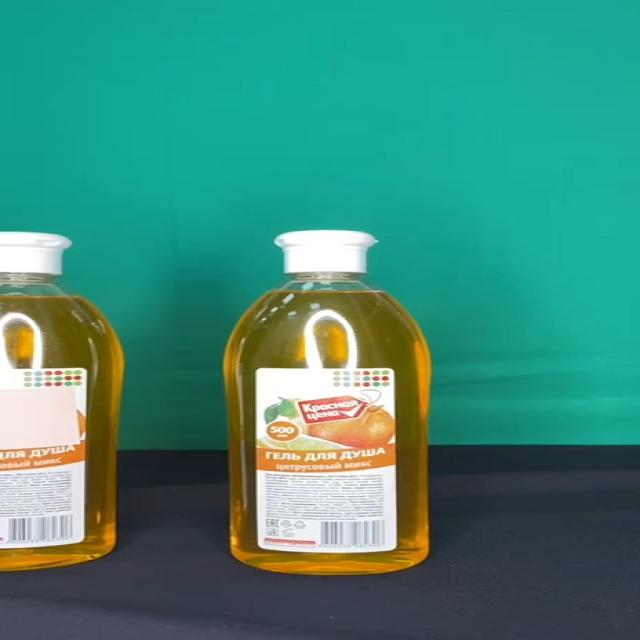Bottle: (222, 229, 432, 574)
Cap: (274, 230, 376, 274)
